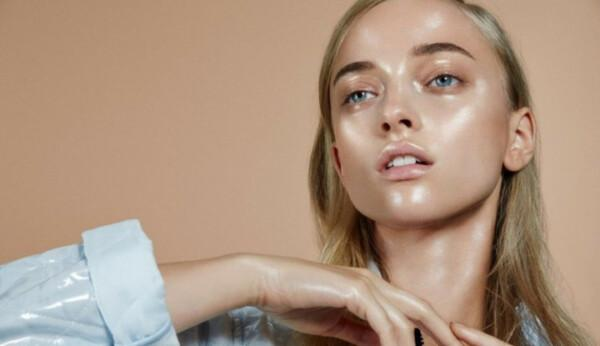Oily-Skin: (439, 104, 474, 142), (339, 116, 363, 146), (354, 24, 381, 48), (376, 57, 410, 76), (409, 183, 430, 206), (424, 12, 443, 27), (474, 75, 488, 94), (389, 130, 410, 140), (389, 192, 402, 206)
